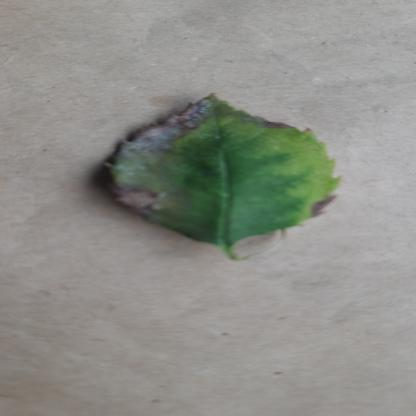powdery-mildew: (104, 90, 346, 246)
